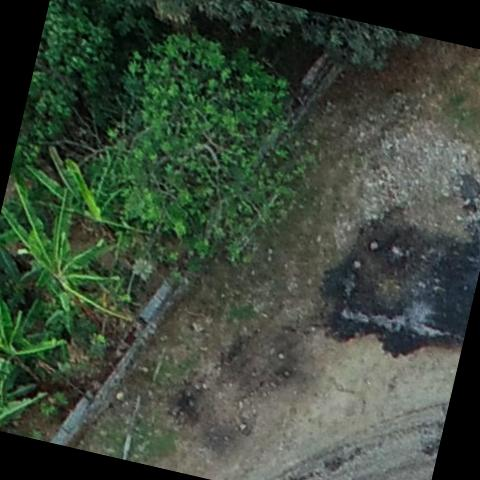Banana-plant: (0, 172, 156, 348), (10, 126, 153, 252), (0, 278, 77, 396)
